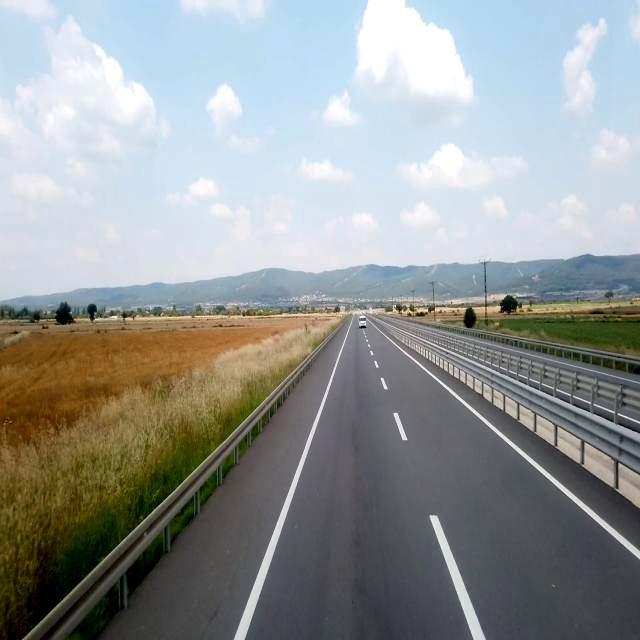lane: (400, 348, 639, 559), (232, 377, 331, 637), (431, 512, 485, 639)
road: (102, 319, 639, 639)
